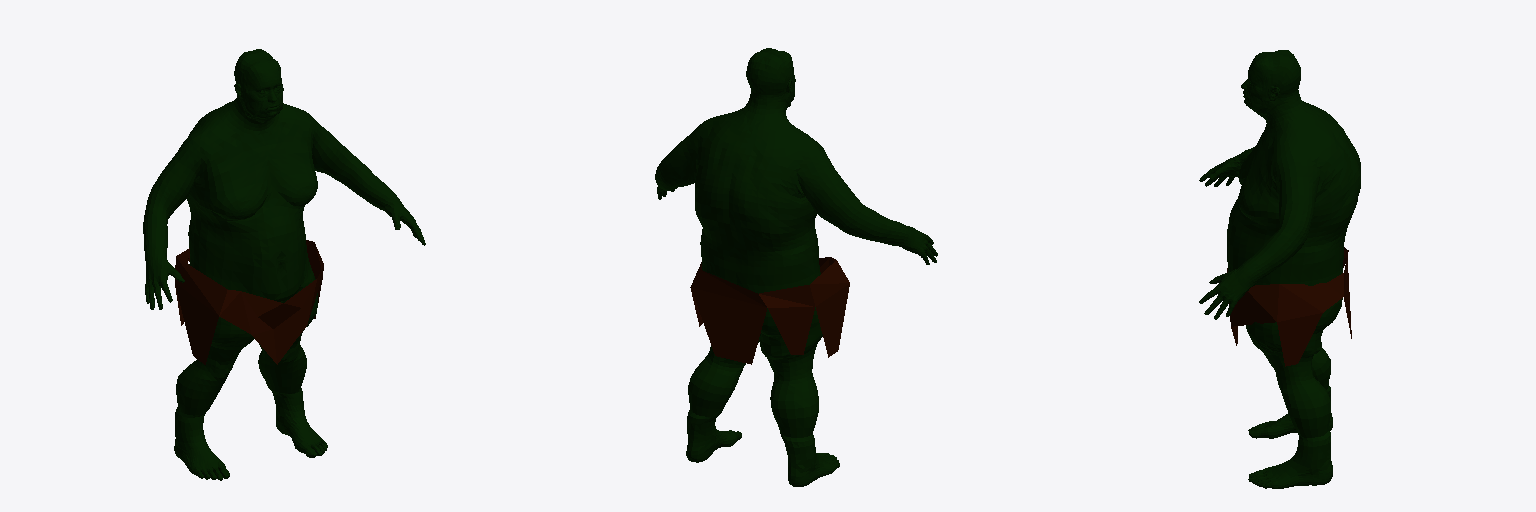
The model's file is nuepuw4.obj.
3 renders of one model, left to right at view 1: azimuth 30°, elevation 25°; view 2: azimuth 150°, elevation 25°; view 3: azimuth 270°, elevation 25°, orthographic.
Parts seen in each view (by area): view 1: newnuepuw; view 2: newnuepuw; view 3: newnuepuw.
Part boxes in pixels (left/top/right/bottom): newnuepuw: left=143, top=49, right=425, bottom=480; newnuepuw: left=655, top=48, right=937, bottom=486; newnuepuw: left=1199, top=50, right=1360, bottom=488.
Size of the model in its own units: 3.03 by 4.29 by 1.55.